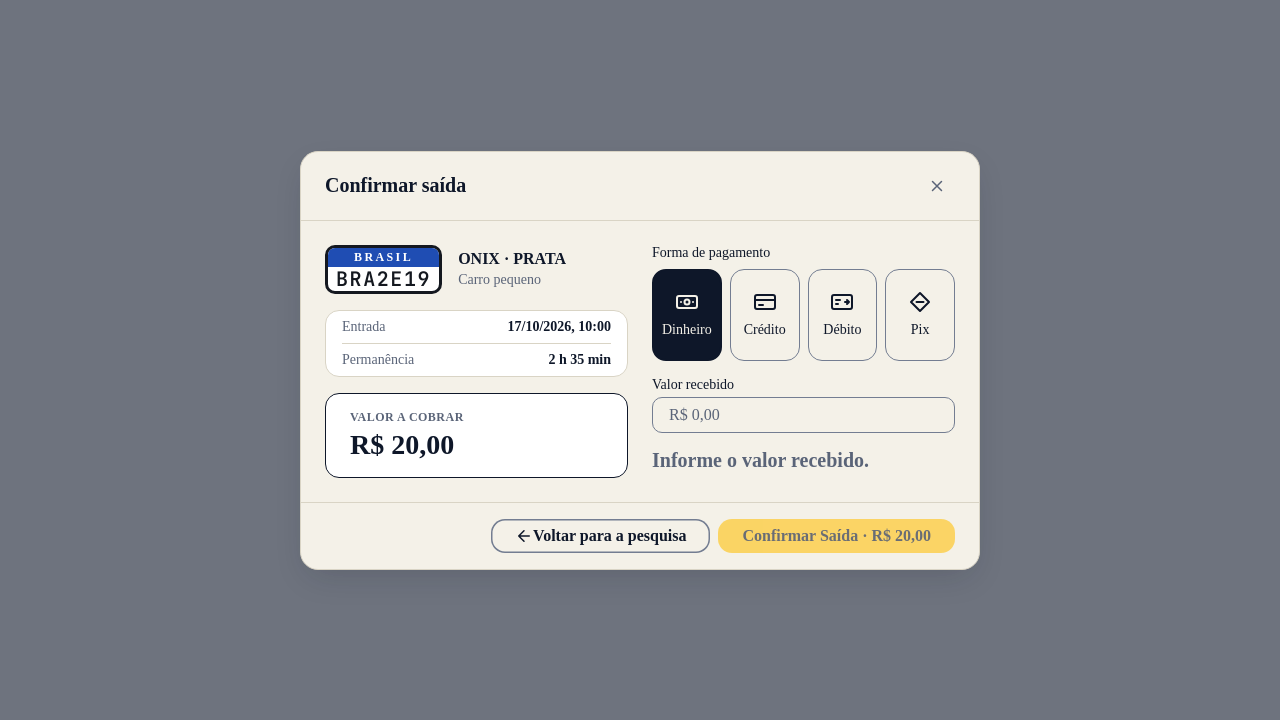
Scenario: SaidaVeiculoModal: fase de pagamento › em Dinheiro só habilita com valor recebido suficiente e mostra o troco
This screenshot has width=1280, height=720.
Expected: the text "ONIX · PRATA" is shown, [458, 250, 566, 268]
Type "10" into the field labelled "Valor recebido".
click(804, 414); type("10")  # box [652, 396, 955, 432]
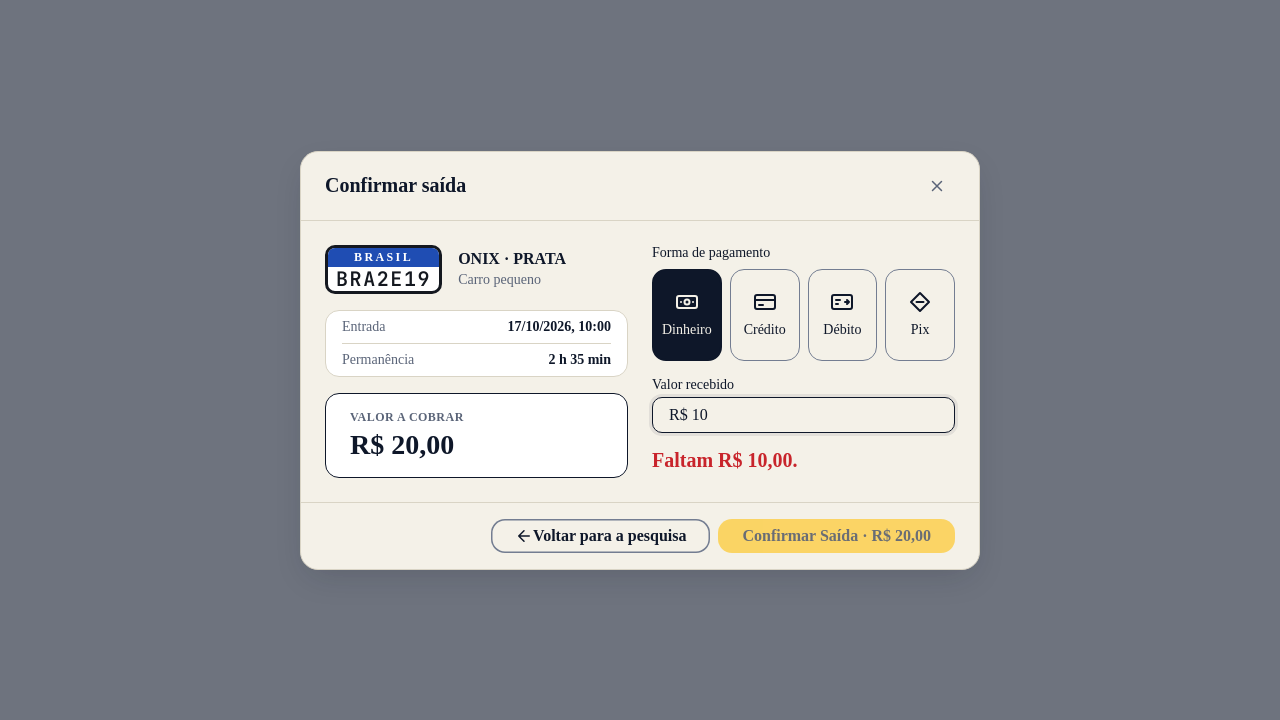
Expected: the text "Faltam R$ 10,00." is shown, [652, 448, 798, 470]
Replace the text in the field labelled "Valor recebido" with "50" at [804, 414], box [652, 396, 955, 432]
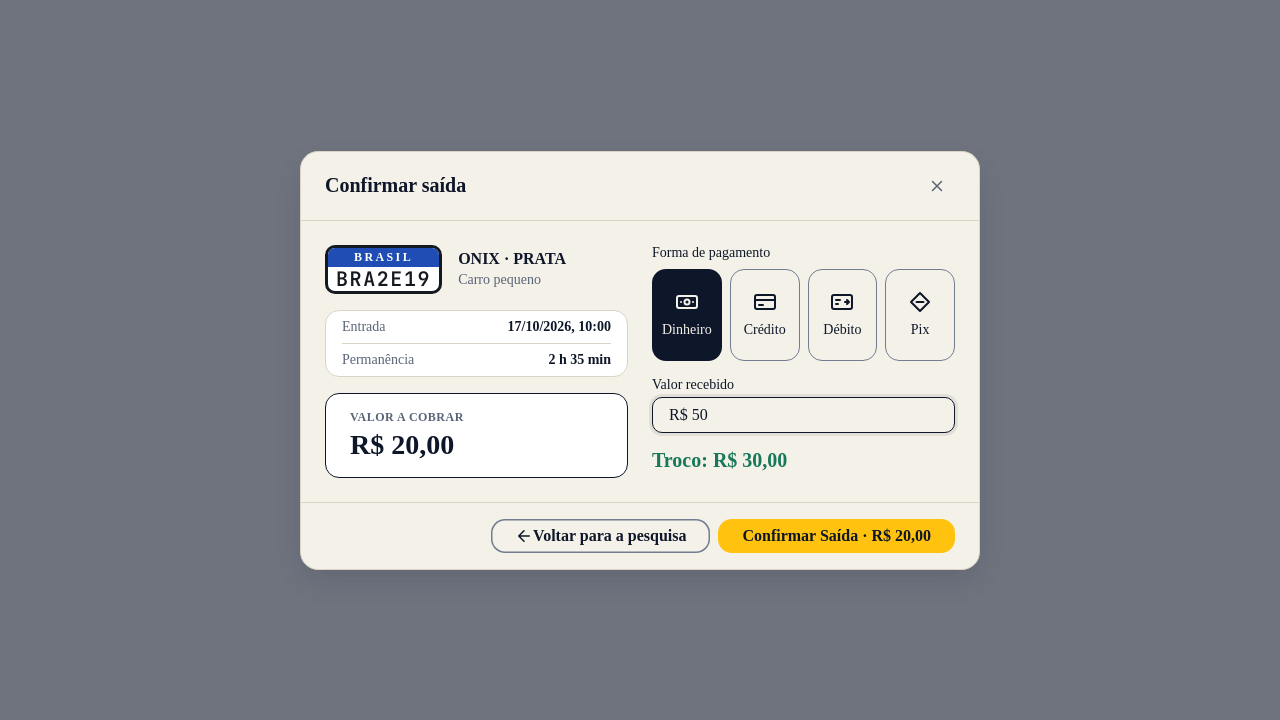
Expected: the text "Troco: R$ 30,00" is shown, [652, 448, 787, 470]
